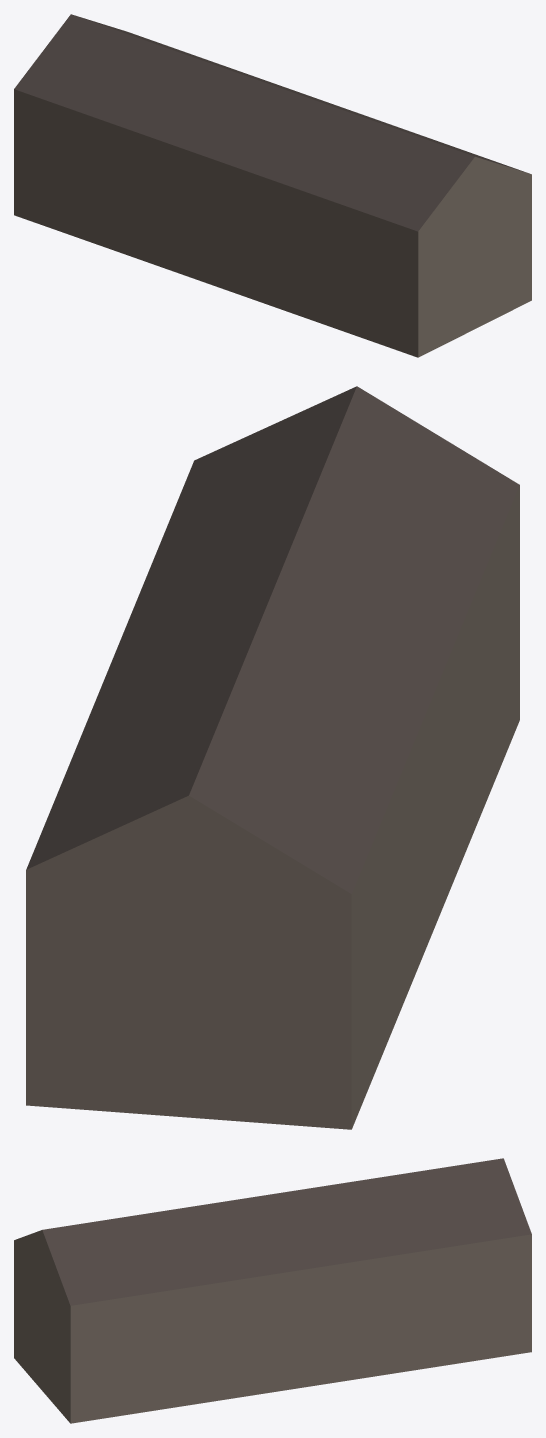
3 renders of one model, top to bottom at view 1: azimuth 30°, elevation 25°; view 2: azimuth 150°, elevation 25°; view 3: azimuth 270°, elevation 25°, orthographic. The views are drawn at different scales.
Parts seen in each view (by area): view 1: HP-w378107230; view 2: HP-w378107230; view 3: HP-w378107230.
Part boxes in pixels (bbox=[...]): HP-w378107230: bbox=[14, 14, 531, 357]; HP-w378107230: bbox=[26, 386, 519, 1129]; HP-w378107230: bbox=[14, 1158, 531, 1423].
Bounding box in the file's own units: 22.49 × 12.3 × 35.87.
